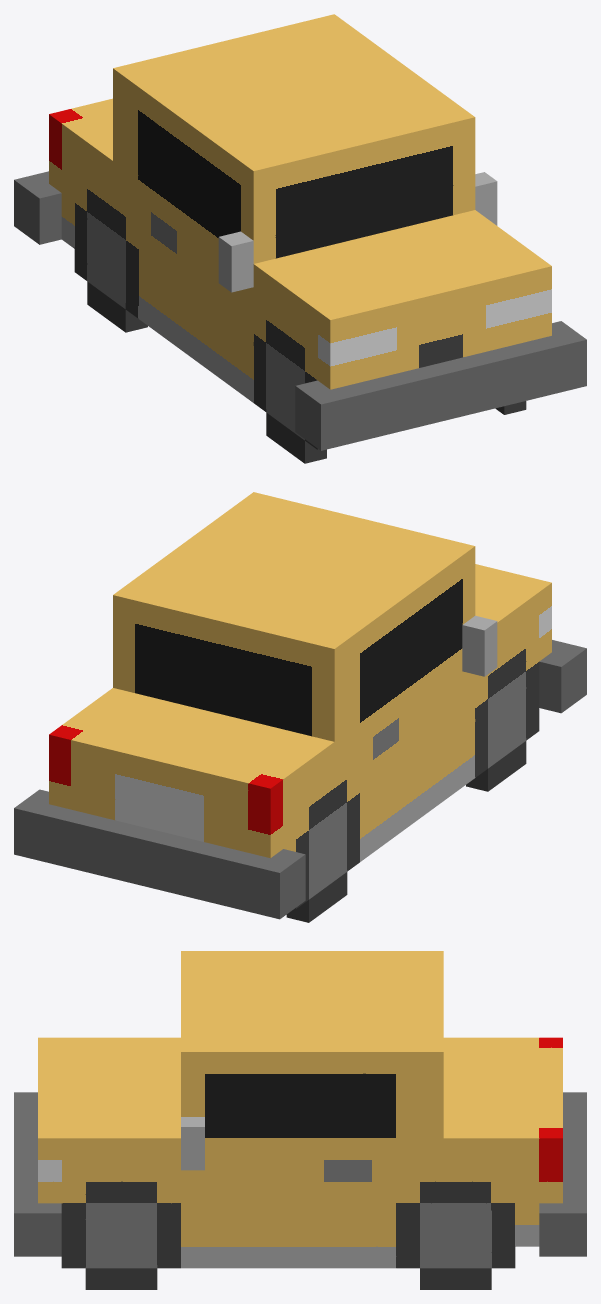
File: veh_mini3.dae
3 views of the same model, one above another, from view 1: azimuth 30°, elevation 25°; view 2: azimuth 150°, elevation 25°; view 3: azimuth 270°, elevation 25° (orthographic). The views are drawn at different scales.
Visible parts, largest first — view 1: veh_mini3; view 2: veh_mini3; view 3: veh_mini3.
Part boxes in pixels (x1=…): veh_mini3: x1=14, y1=14, x2=586, y2=463; veh_mini3: x1=14, y1=492, x2=586, y2=922; veh_mini3: x1=14, y1=951, x2=586, y2=1289.
Size of the model in its own units: 1.2 by 2.4 by 1.1.
1 material, 1 textured.
